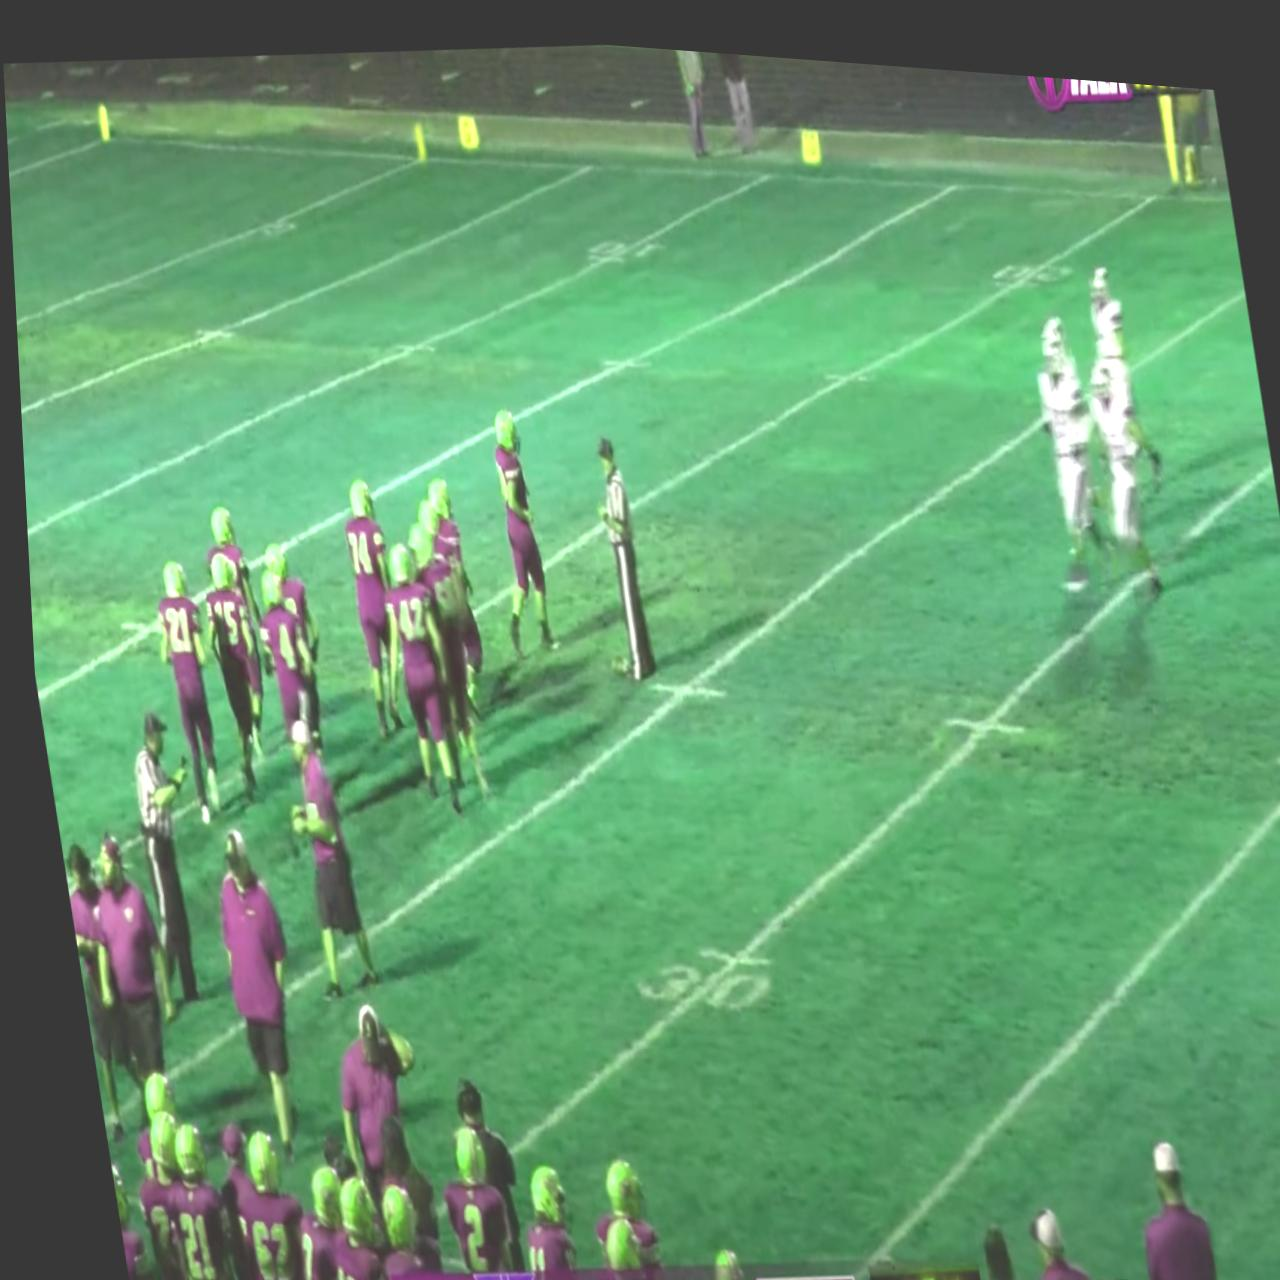10L: (237, 205, 298, 243)
20L: (580, 222, 667, 259)
30L: (621, 935, 767, 1019), (988, 237, 1075, 273)
